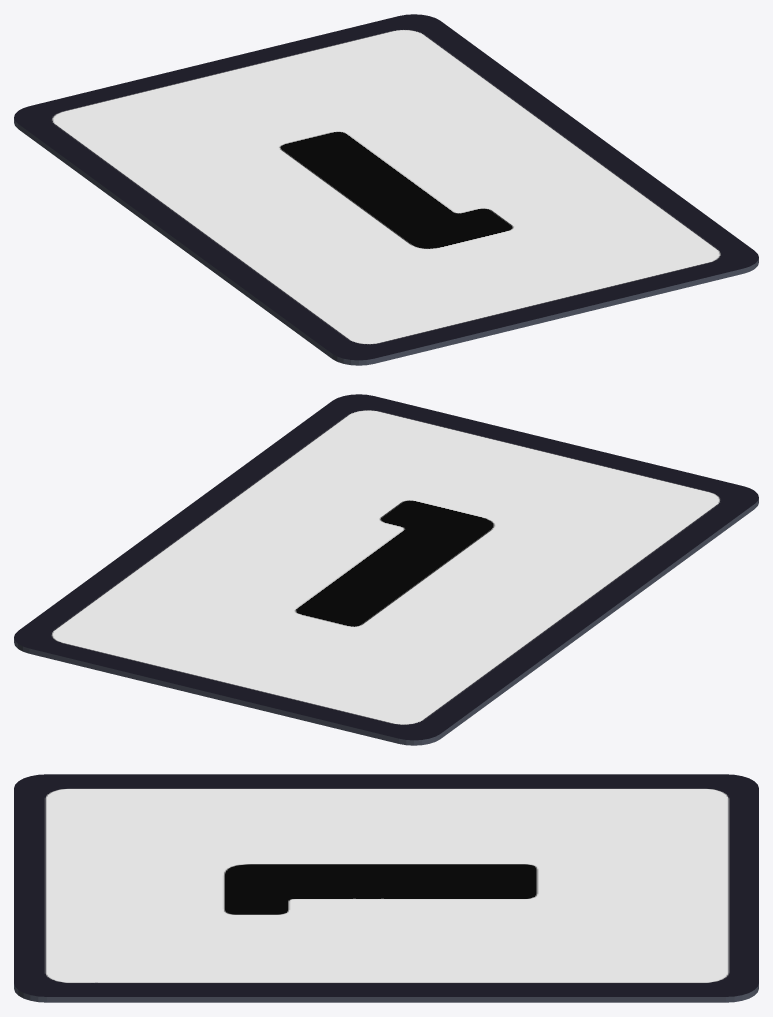
3 views of the same model, one above another, from view 1: azimuth 30°, elevation 25°; view 2: azimuth 150°, elevation 25°; view 3: azimuth 270°, elevation 25° (orthographic). The views are drawn at different scales.
Parts seen in each view (by area): view 1: 立方体; view 2: 立方体; view 3: 立方体.
Part boxes in pixels (<box>): 立方体: <box>14,14,758,365</box>; 立方体: <box>14,394,758,745</box>; 立方体: <box>14,774,758,1002</box>.
Bounding box in the file's own units: 8.4 × 0.1 × 11.88.
3 materials, 2 textured.
